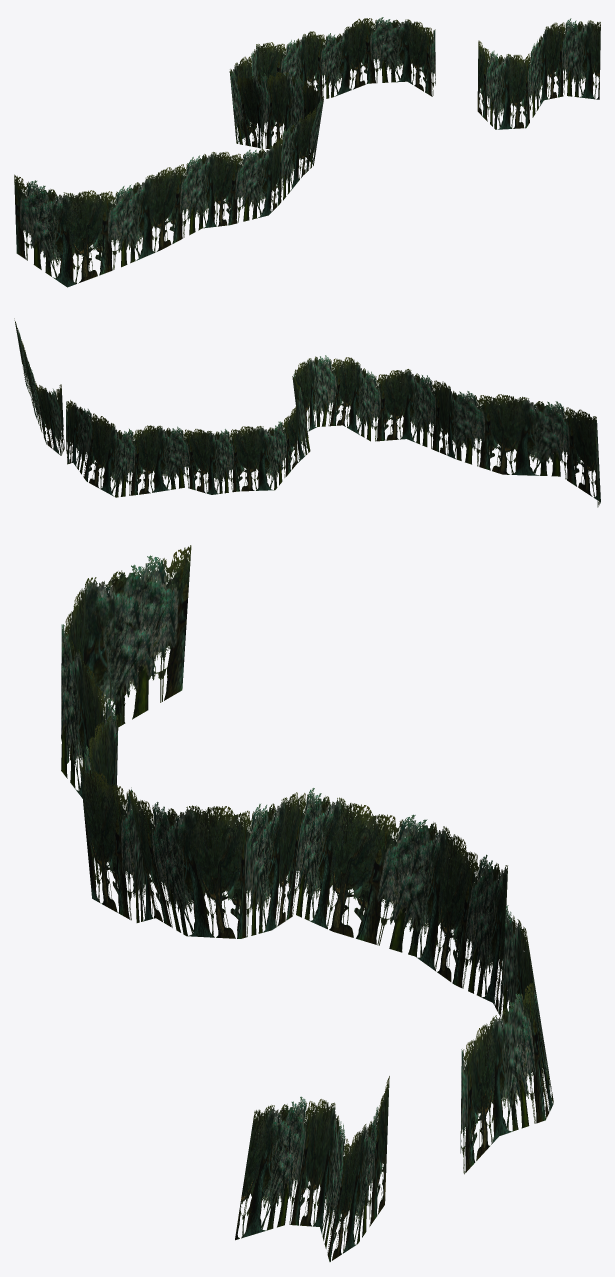
Rendered from MIRKWOOD_MIRK_PLAYSURFACE96.fbx.
3 views of the same model, one above another, from view 1: azimuth 30°, elevation 25°; view 2: azimuth 150°, elevation 25°; view 3: azimuth 270°, elevation 25° (orthographic). The views are drawn at different scales.
Visible parts, largest first — view 1: MIRKWOOD_MIRK_PLAYSURFACE96; view 2: MIRKWOOD_MIRK_PLAYSURFACE96; view 3: MIRKWOOD_MIRK_PLAYSURFACE96.
Part boxes in pixels (bbox=[...]): MIRKWOOD_MIRK_PLAYSURFACE96: bbox=[14, 17, 600, 287]; MIRKWOOD_MIRK_PLAYSURFACE96: bbox=[14, 318, 600, 507]; MIRKWOOD_MIRK_PLAYSURFACE96: bbox=[61, 545, 553, 1261].
Size of the model in its own units: 1656632 by 336319 by 625006.
1 material, 1 textured.
